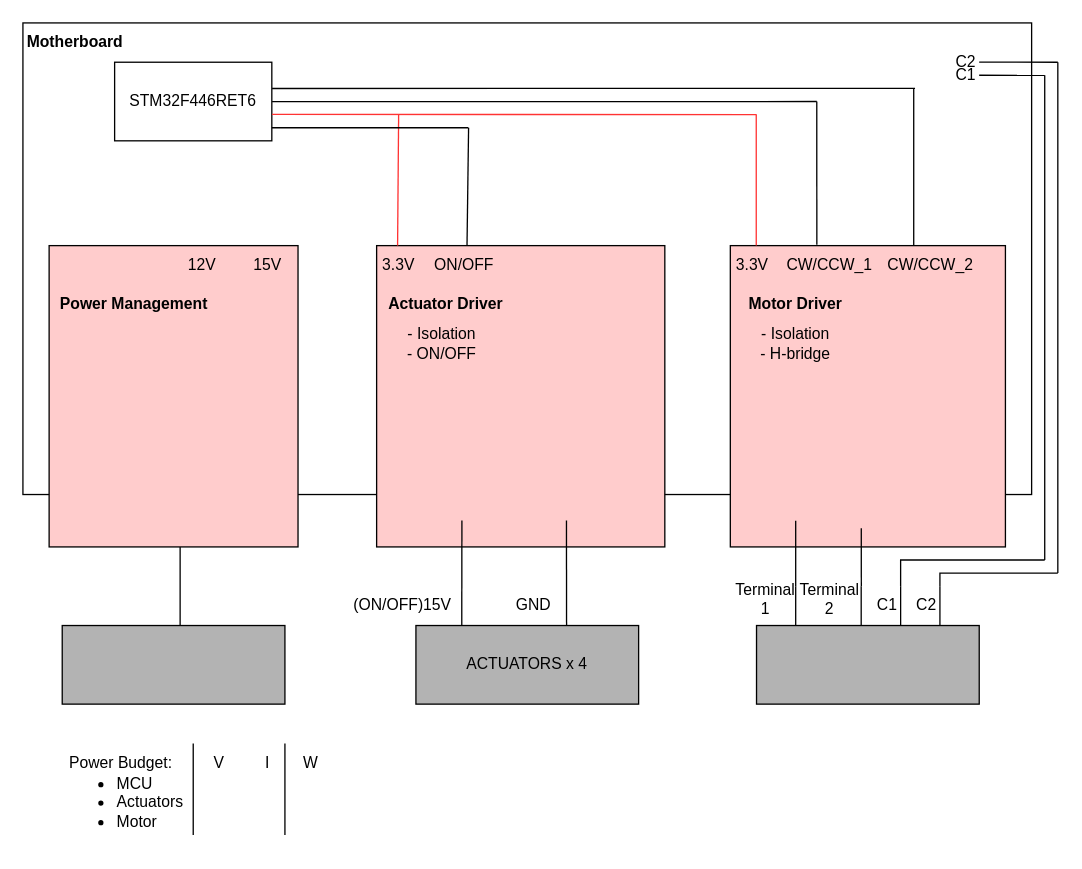
Some shapes in this 1082 by 869 pixel diagram are drawn without their labels. Each missing label, with the box of its shape:
Lab Power Supply: (61, 624, 285, 704)
MOTOR: (755, 624, 979, 704)
